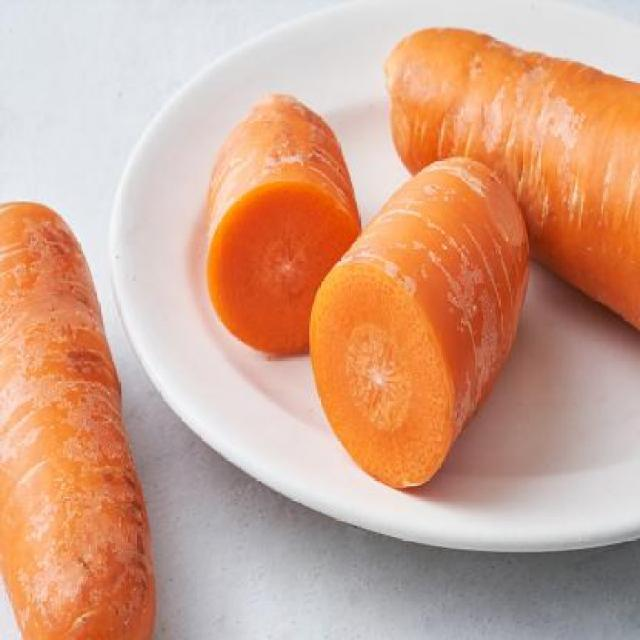carrot: (382, 24, 640, 339), (307, 154, 535, 494), (1, 193, 161, 640), (202, 86, 368, 358)
